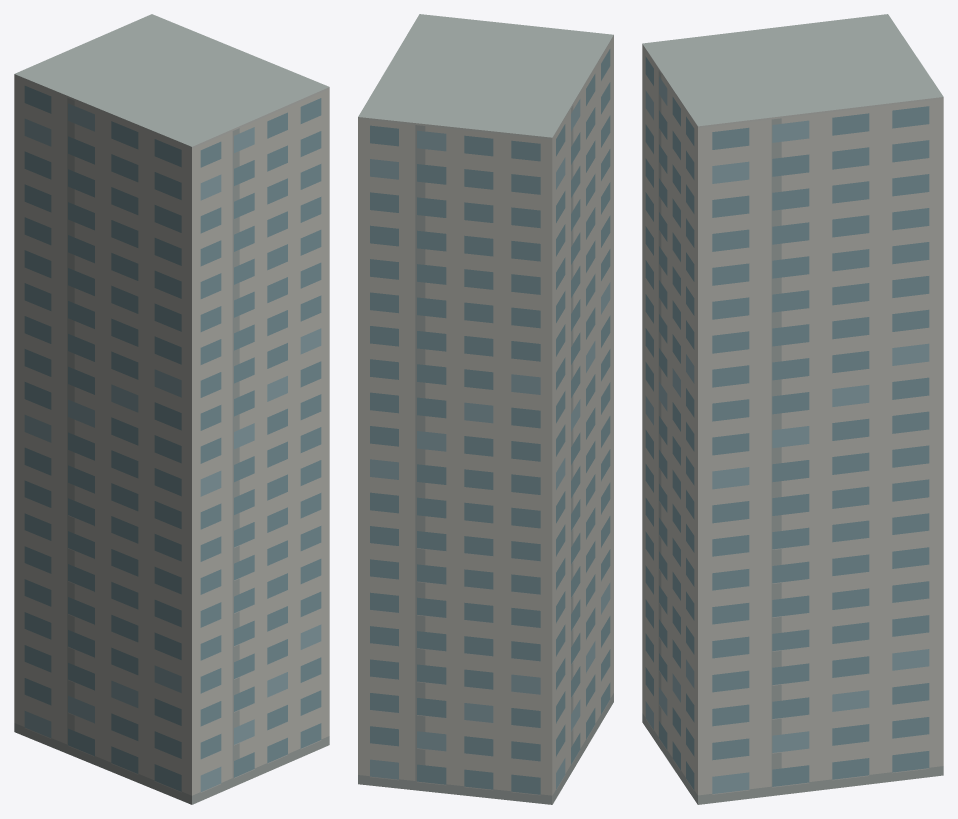
File: residential-ffe45f3b-9270-4e0d-91f0-80ce962ee0e7.glb
The picture shows the model from 3 angles, left to right: view 1: azimuth 30°, elevation 25°; view 2: azimuth 150°, elevation 25°; view 3: azimuth 270°, elevation 25°; orthographic projection. The views are drawn at different scales.
Visible parts, largest first — view 1: residential-ffe45f3b-9270-4e0d-91f0-80ce962ee0e7.tmp; view 2: residential-ffe45f3b-9270-4e0d-91f0-80ce962ee0e7.tmp; view 3: residential-ffe45f3b-9270-4e0d-91f0-80ce962ee0e7.tmp.
Part boxes in pixels (left/top/right/bottom): residential-ffe45f3b-9270-4e0d-91f0-80ce962ee0e7.tmp: left=14, top=14, right=329, bottom=804; residential-ffe45f3b-9270-4e0d-91f0-80ce962ee0e7.tmp: left=358, top=14, right=613, bottom=804; residential-ffe45f3b-9270-4e0d-91f0-80ce962ee0e7.tmp: left=642, top=14, right=943, bottom=804.
Size of the model in its own units: 30.2 by 85 by 34.24.
